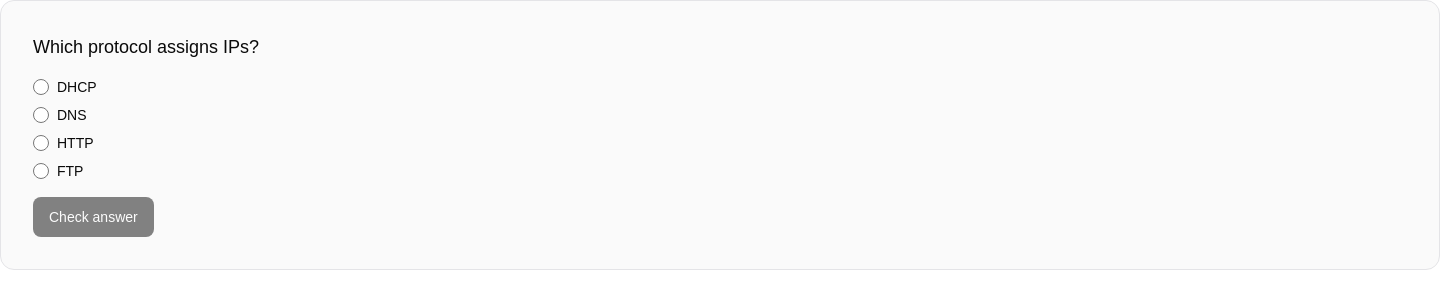
Test: QuestionCard: multiple choice › a wrong choice reports incorrect
Click the radio button labelled "DNS". click: (41, 115)
box: [33,107,49,123]
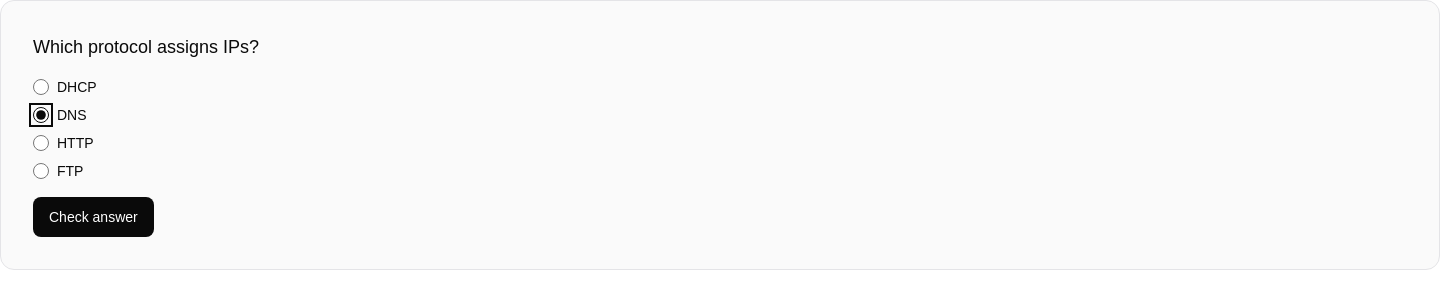
Click the button "Check answer". click: (93, 217)
box: [33,197,154,237]
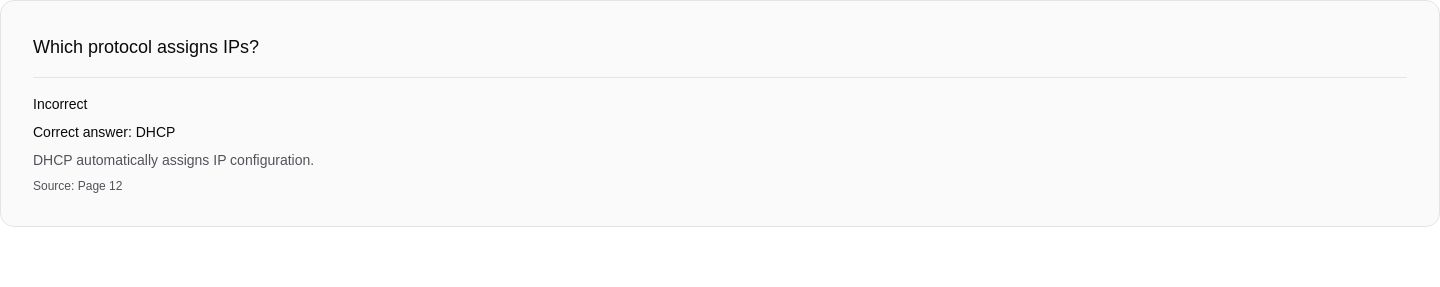
Expected: the text "Incorrect" is shown, [33,96,88,112]
